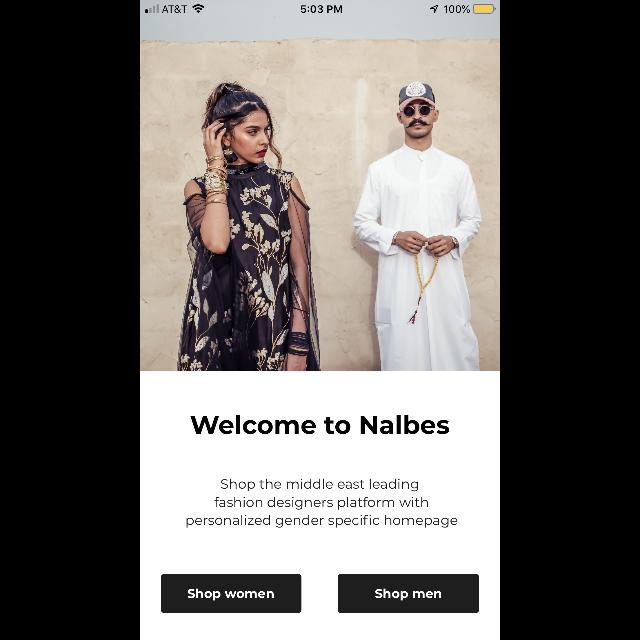image: (140, 37, 500, 371)
text: (187, 478, 458, 528), (190, 414, 450, 434)
textbutton: (338, 574, 479, 614), (161, 574, 301, 614)
uppertaskbar: (140, 0, 500, 14)
